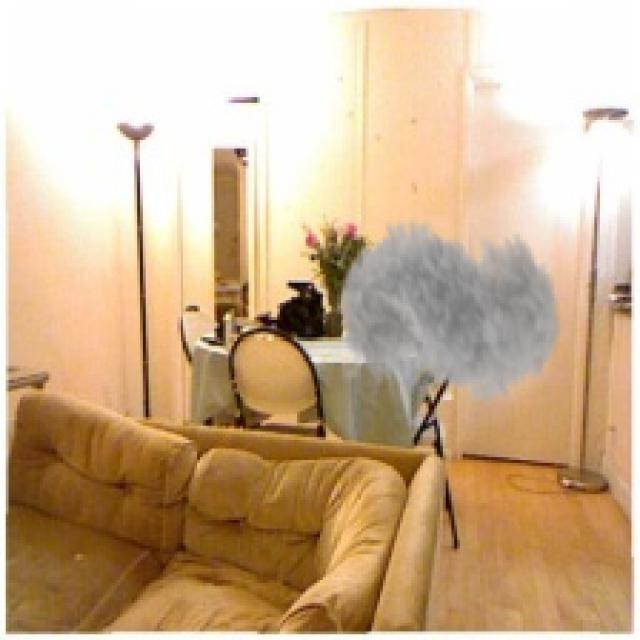smoke: (337, 194, 563, 423)
